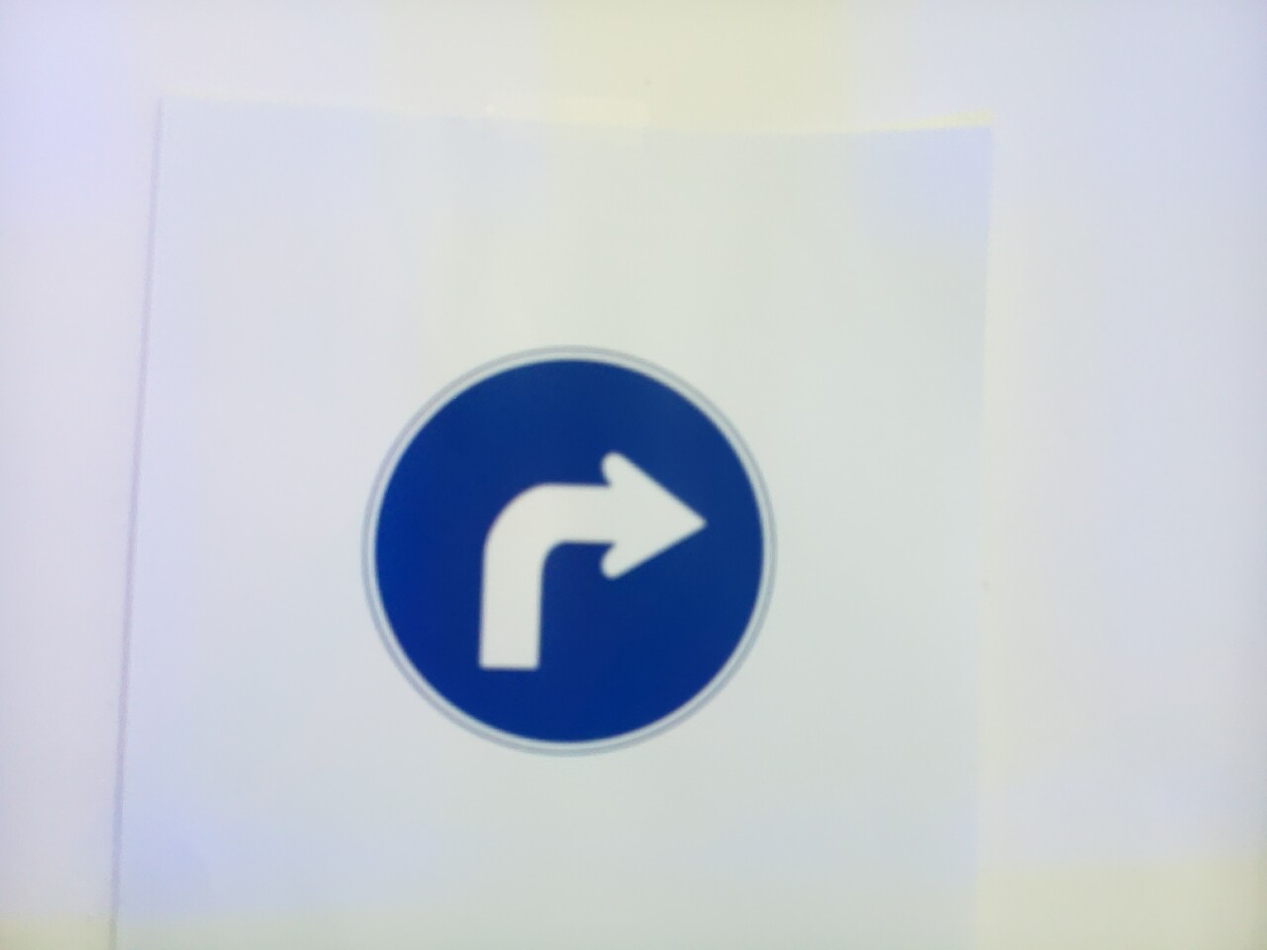right_turn: (362, 348, 776, 754)
